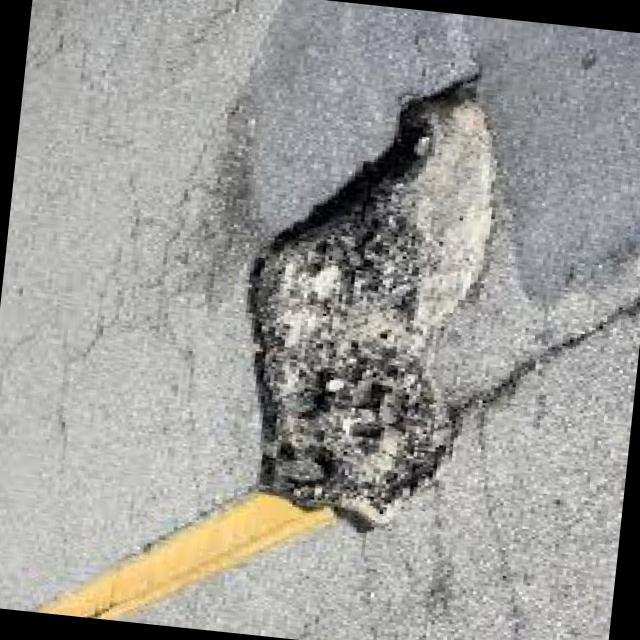pothole: (218, 58, 514, 548)
